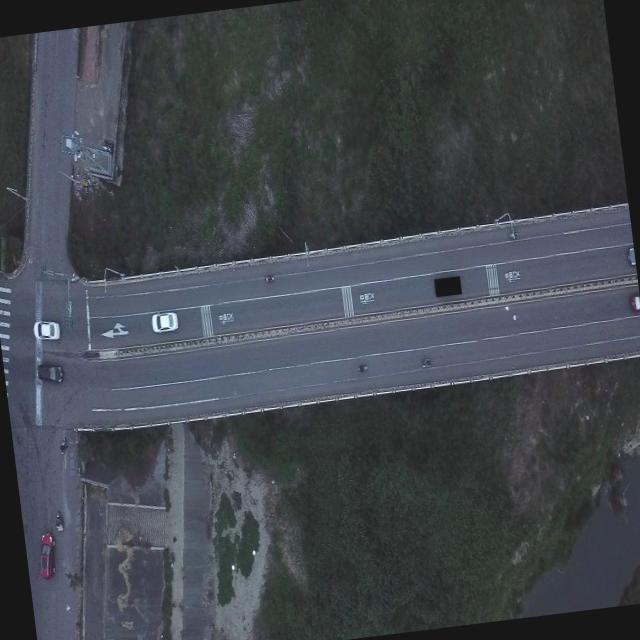bike: (52, 507, 66, 532), (58, 435, 68, 453), (262, 272, 276, 284), (421, 357, 432, 369), (358, 360, 368, 372)
car: (34, 530, 59, 582), (32, 316, 62, 342), (36, 360, 66, 386), (150, 310, 178, 334), (624, 246, 636, 270), (630, 290, 640, 314)
